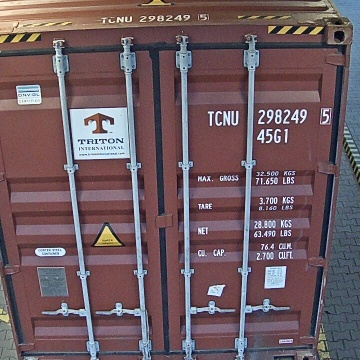serial_id: (207, 108, 331, 126)
